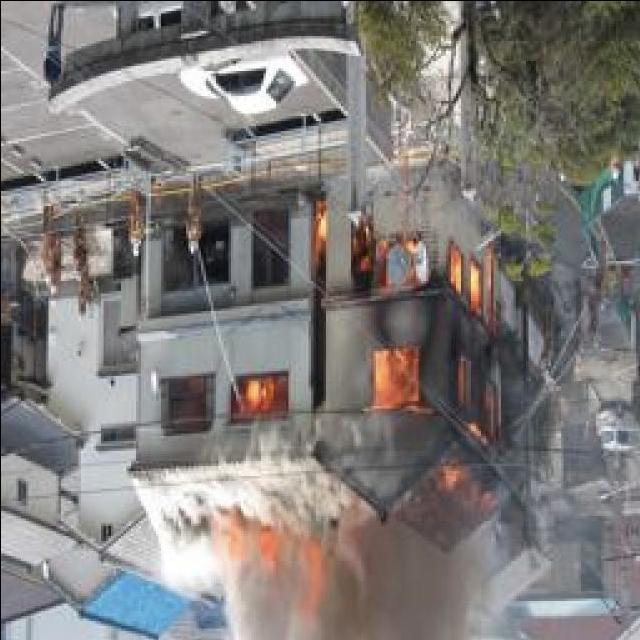Fire: (338, 204, 524, 515), (199, 502, 336, 616), (224, 370, 291, 430)
